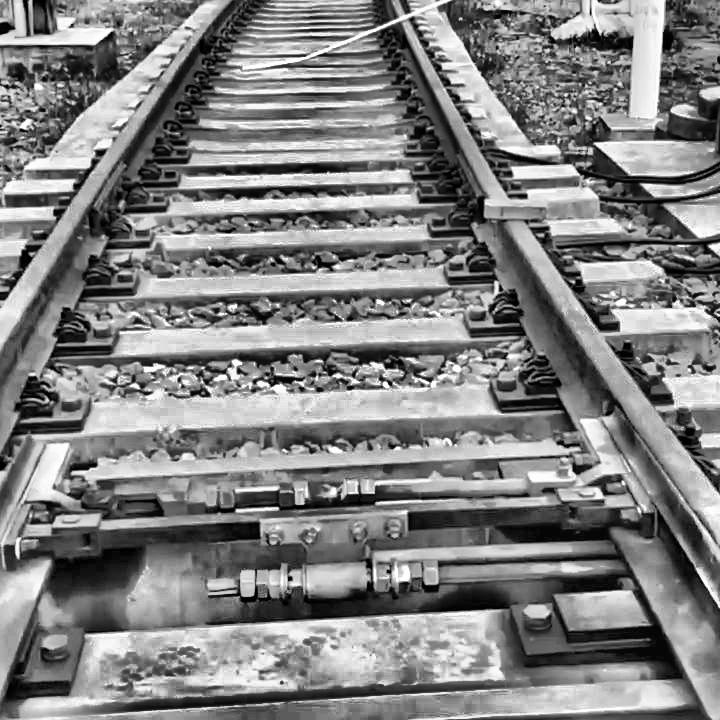Trash: (221, 0, 462, 76)
